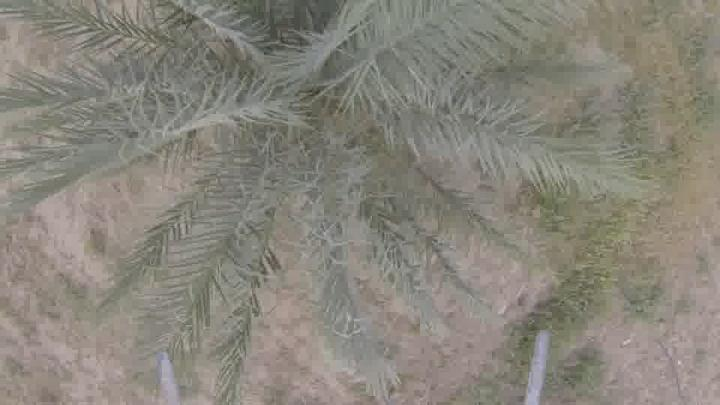Date-Palm-Crown: (91, 3, 455, 273)
